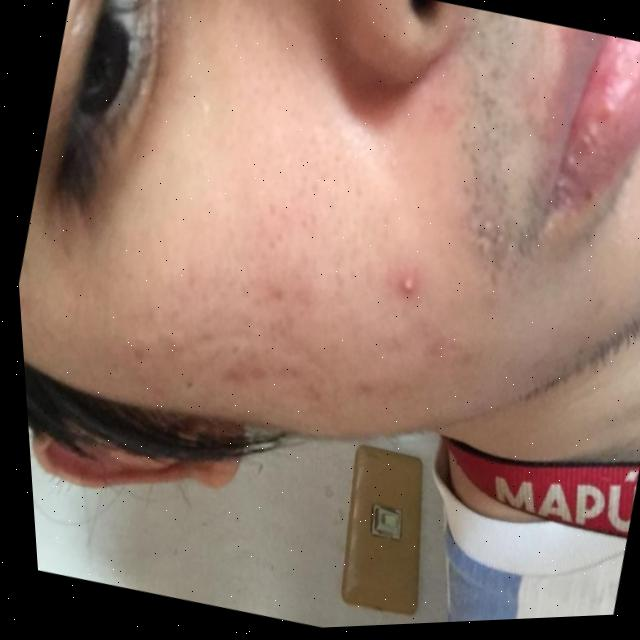Acne: (402, 260, 418, 288)
